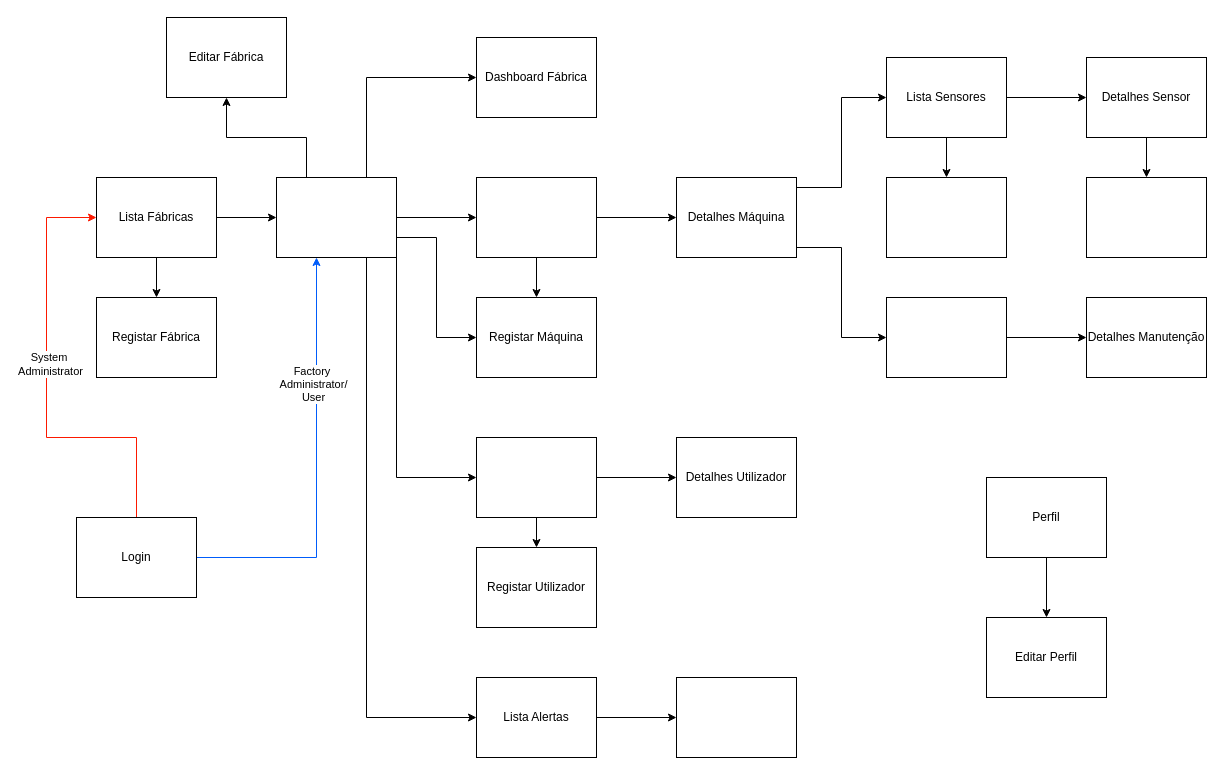
This 1224x775 diagram has some shape labels left out. Here are the shapes that lost their labels. From the top down, the centre of each, then its label:
At (x=336, y=217): "Detalhes Fábrica".
At (x=536, y=217): "Lista Máquinas".
At (x=946, y=217): "Registar Sensor".
At (x=1146, y=217): "Editar Sensor".
At (x=946, y=337): "Lista Manutenções".
At (x=536, y=477): "Lista Utilizadores".
At (x=736, y=717): "Detalhes Alerta".
